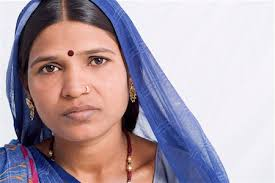indian_female: (1, 15, 152, 143)
